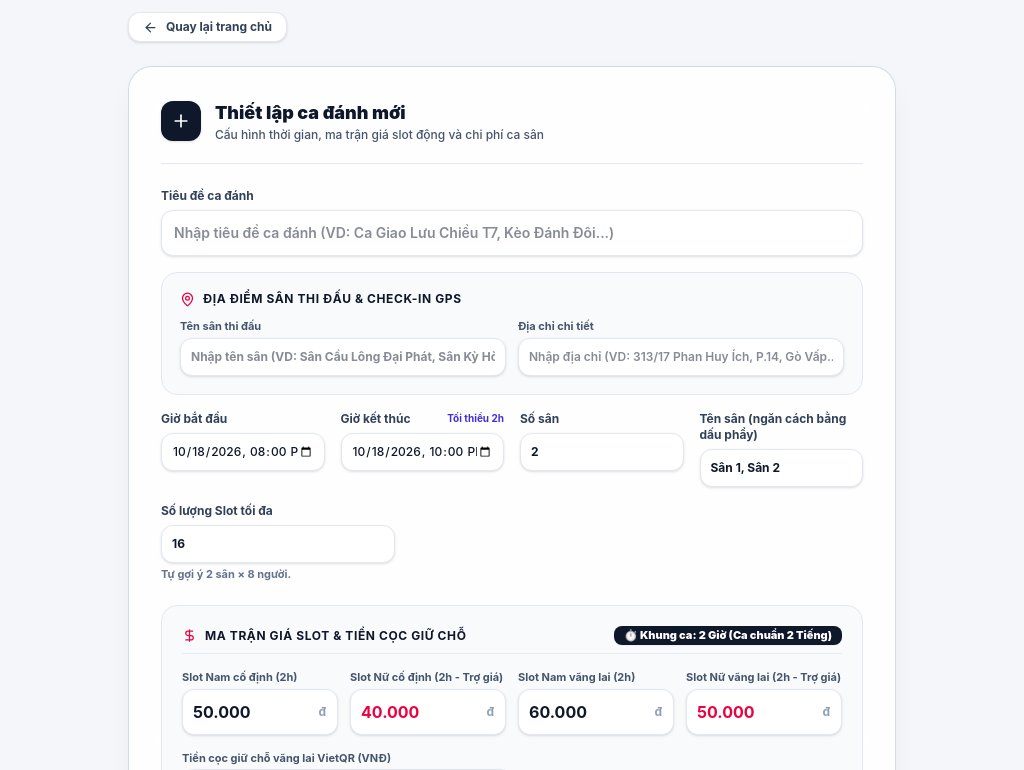
it: CreateSessionView - số sân, tên sân, số slot › ô số dạng chuỗi + inputMode numeric và có thông báo lỗi
The image size is (1024, 770).
Step 1. Clear the field labelled "Số sân" → (602, 452), box [520,433,684,471]
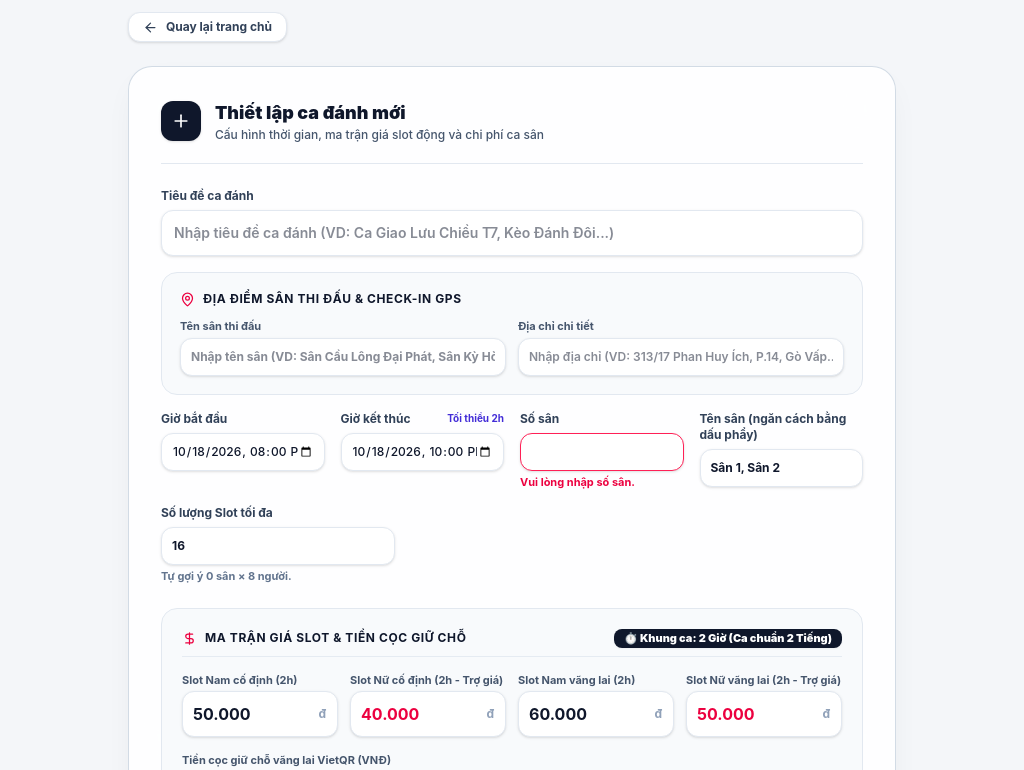
Now the text "Vui lòng nhập số sân." is shown, box [520,475,635,489]
Step 2. Replace the text in the field labelled "Số lượng Slot tối đa" with "816" → (278, 546), box [161,527,395,565]
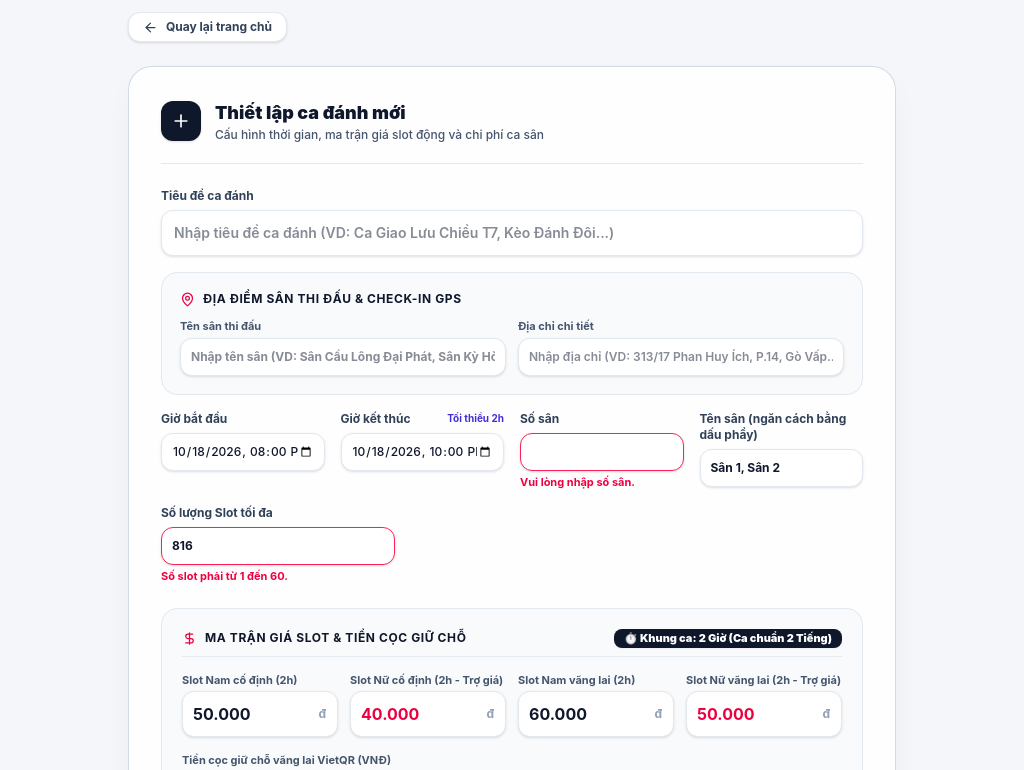
Now the text "Số slot phải từ 1 đến 60." is shown, box [161,569,288,583]
